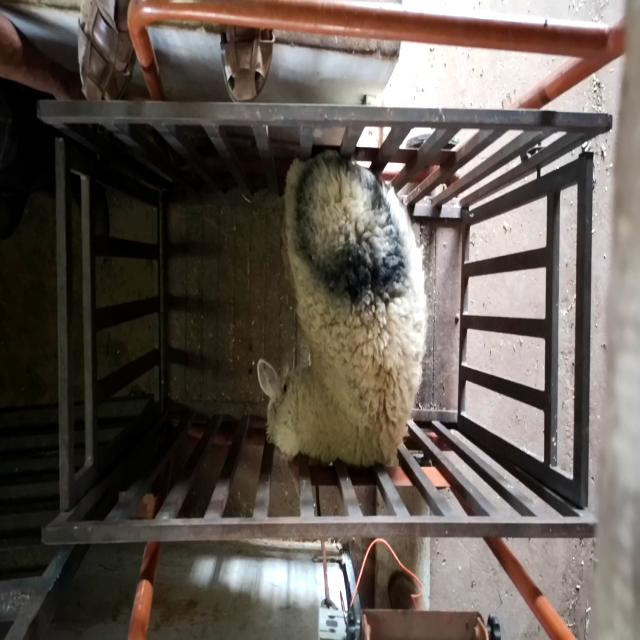sheep: (257, 149, 428, 498)
